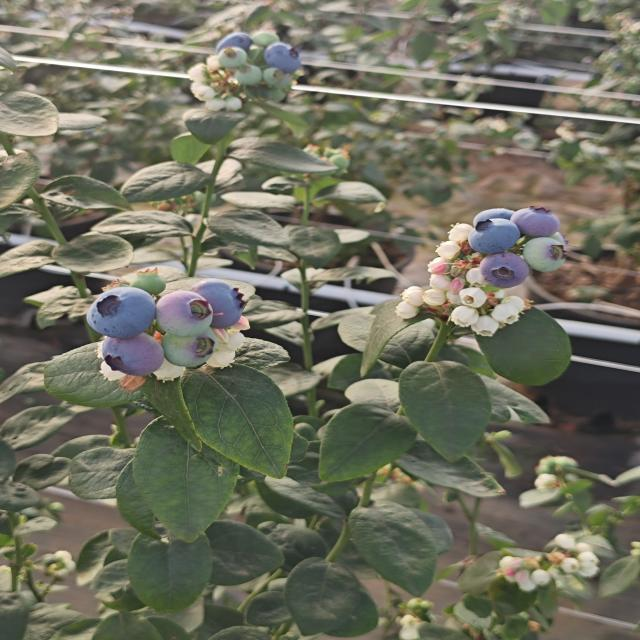ripe: (84, 285, 157, 340), (98, 336, 169, 376), (189, 278, 245, 323), (511, 192, 563, 238), (467, 216, 520, 258), (262, 29, 305, 75), (481, 255, 524, 289), (212, 30, 264, 58), (472, 198, 517, 230)
